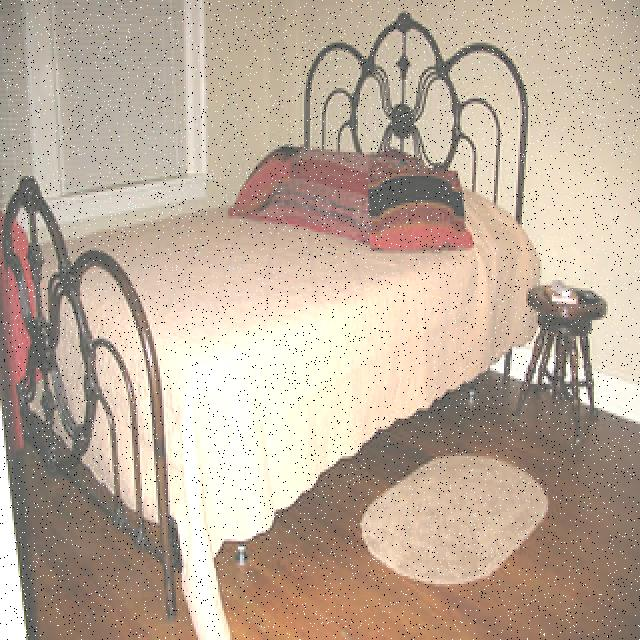bed: (5, 17, 546, 500)
